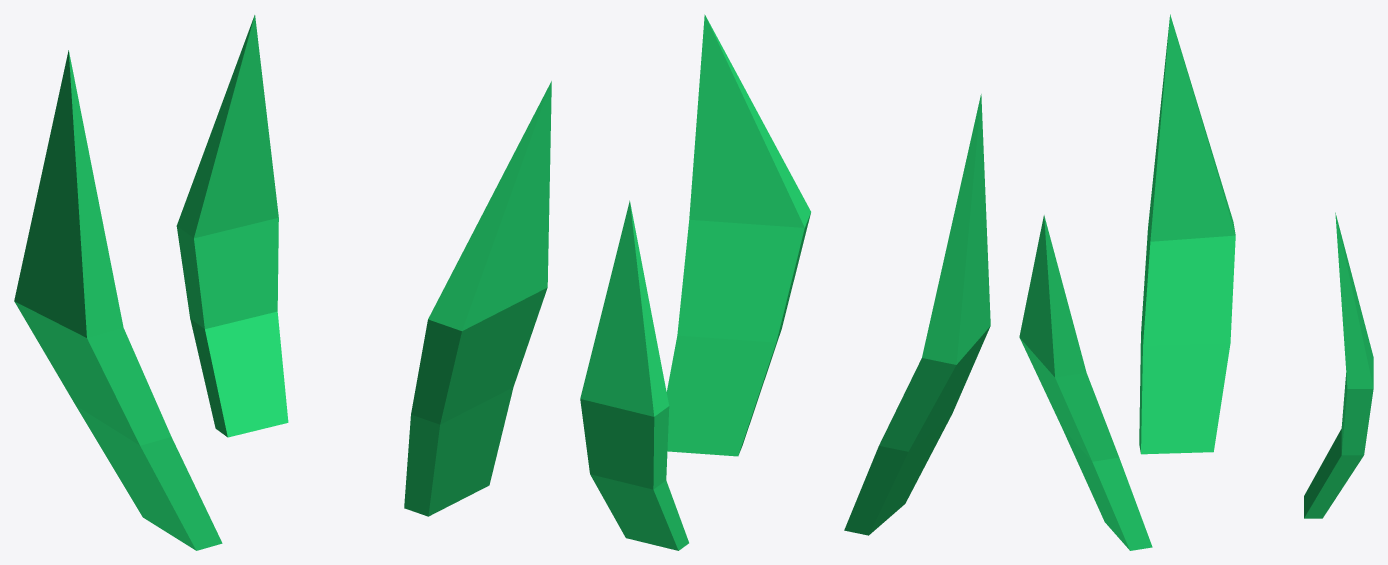
The model's file is Plant002_V3.fbx.
3 renders of one model, left to right at view 1: azimuth 30°, elevation 25°; view 2: azimuth 150°, elevation 25°; view 3: azimuth 270°, elevation 25°, orthographic. The views are drawn at different scales.
Visible parts, largest first — view 1: Plant002.001; view 2: Plant002.001; view 3: Plant002.001.
Boxes of the visible parts, x1,y1,x2,y2 form: Plant002.001: [14, 15, 551, 550]; Plant002.001: [580, 14, 990, 550]; Plant002.001: [1019, 14, 1373, 550].
Bounding box in the file's own units: 0.5071 × 0.5969 × 0.4909.
